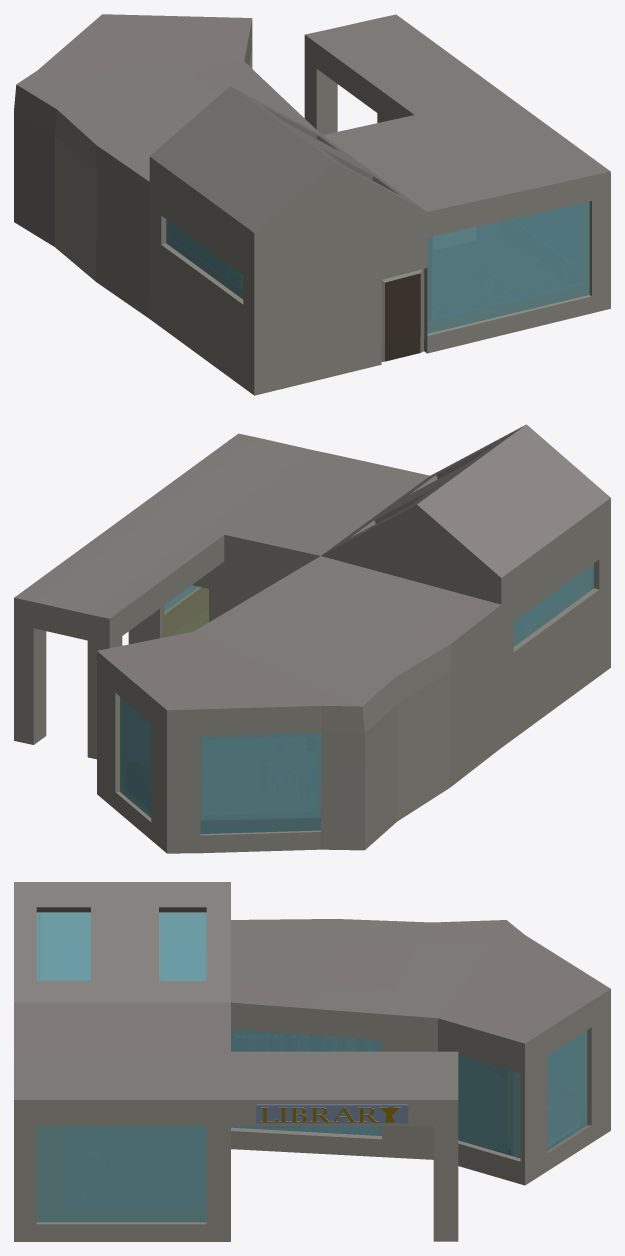
File: Library_Interior_andEx 1.fbx
3 views of the same model, one above another, from view 1: azimuth 30°, elevation 25°; view 2: azimuth 150°, elevation 25°; view 3: azimuth 270°, elevation 25° (orthographic). The views are drawn at different scales.
Parts seen in each view (by area): view 1: Library_Building; view 2: Library_Building, Shelves_and_books; view 3: Library_Building.
Part boxes in pixels (bbox=[...]): Library_Building: bbox=[14, 14, 610, 395]; Library_Building: bbox=[14, 424, 610, 853]; Shelves_and_books: bbox=[201, 818, 320, 833]; Library_Building: bbox=[14, 882, 610, 1241].
Size of the model in its own units: 4499 by 2540 by 6193.
